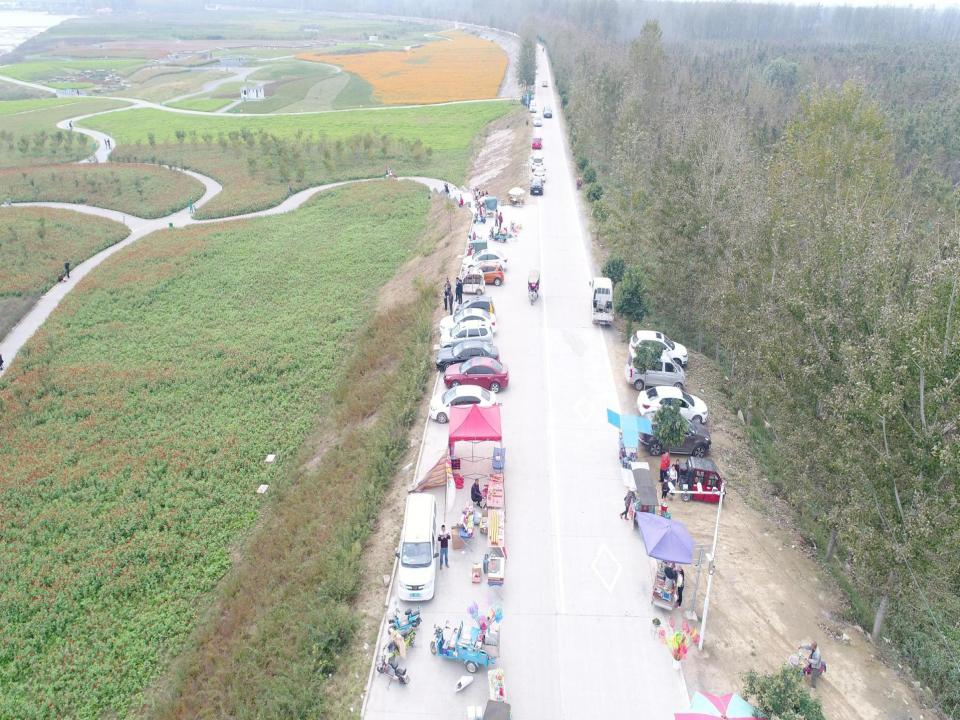car: (636, 409, 713, 461), (636, 384, 708, 426), (428, 384, 498, 424), (624, 348, 686, 393), (627, 328, 689, 371), (443, 355, 509, 394), (435, 341, 502, 374), (438, 321, 494, 355), (438, 308, 497, 336), (454, 295, 497, 323), (460, 249, 508, 273), (463, 260, 504, 286), (530, 176, 545, 196), (532, 164, 546, 184), (530, 154, 545, 172), (531, 136, 544, 150), (542, 105, 554, 119), (532, 114, 543, 127), (528, 99, 538, 113), (540, 80, 548, 88)
truck: (588, 274, 616, 326)
van: (396, 491, 439, 602)
